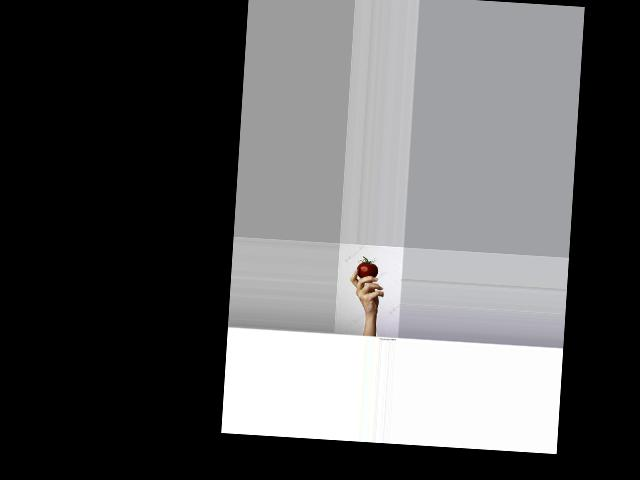tomato: (357, 256, 379, 278)
